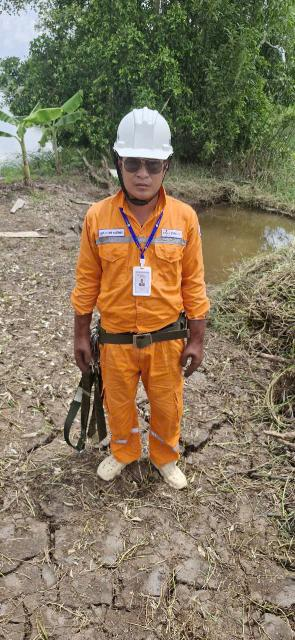gloves: (176, 311, 212, 382), (64, 311, 100, 379)
harness: (86, 315, 196, 348)
helmet: (104, 108, 184, 163)
shoes: (93, 438, 141, 489), (153, 453, 191, 499)
